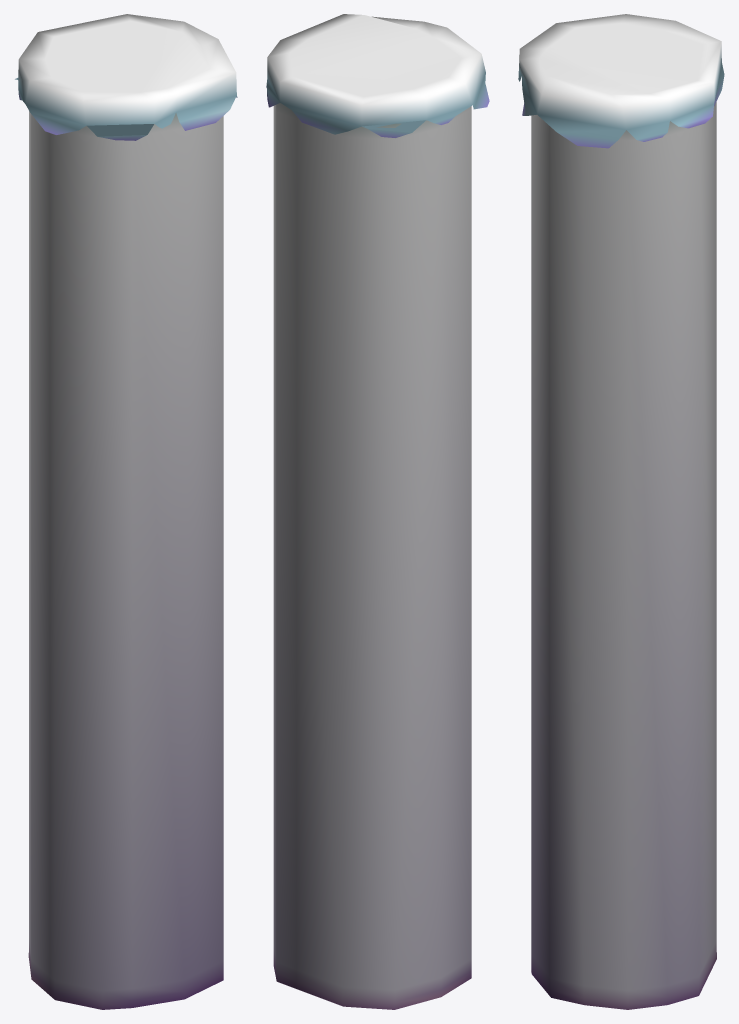
File: Block_03_H3_grass.fbx
3 renders of one model, left to right at view 1: azimuth 30°, elevation 25°; view 2: azimuth 150°, elevation 25°; view 3: azimuth 270°, elevation 25°, orthographic.
Parts seen in each view (by area): view 1: Rock-Base-col.009, Rock-Base-col.010; view 2: Rock-Base-col.009, Rock-Base-col.010; view 3: Rock-Base-col.009, Rock-Base-col.010.
Part boxes in pixels (<box>): Rock-Base-col.009: <box>28,111,223,1009</box>; Rock-Base-col.010: <box>15,14,237,140</box>; Rock-Base-col.009: <box>273,103,471,1009</box>; Rock-Base-col.010: <box>266,14,489,137</box>; Rock-Base-col.009: <box>531,102,716,1009</box>; Rock-Base-col.010: <box>518,14,724,148</box>.
Size of the model in its own units: 226 by 1013 by 207.
